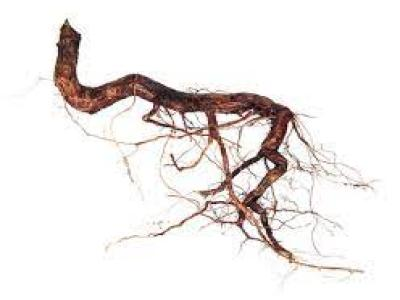Root: (53, 21, 292, 214)
